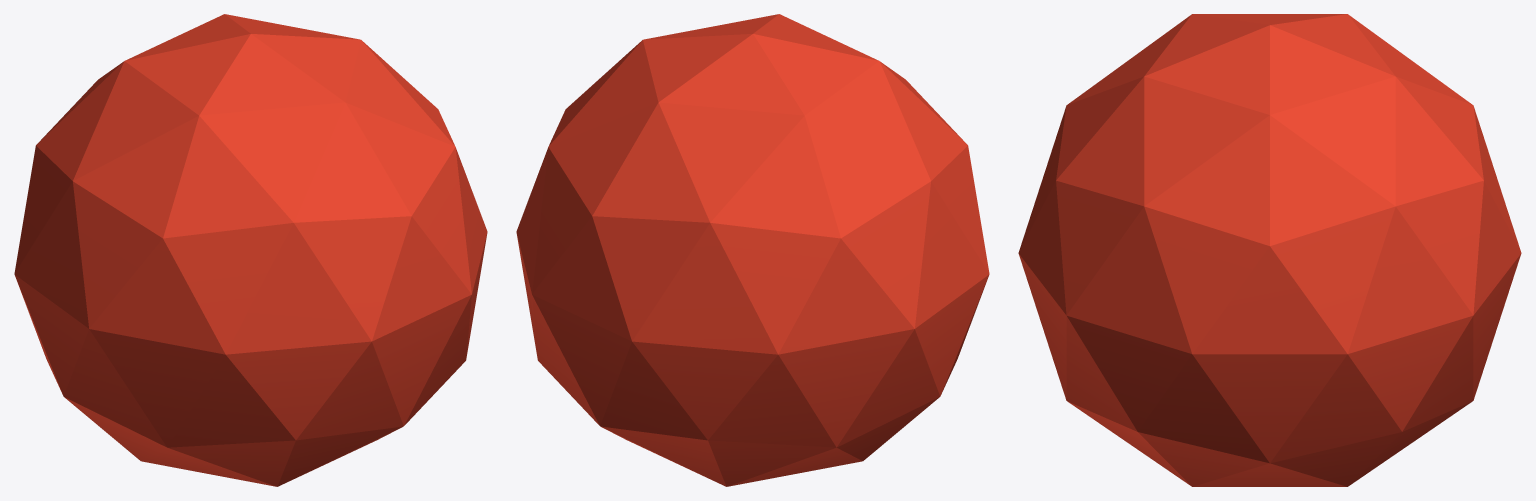
Rendered from tee_marker_ball_red.glb.
The picture shows the model from 3 angles, left to right: view 1: azimuth 30°, elevation 25°; view 2: azimuth 150°, elevation 25°; view 3: azimuth 270°, elevation 25°; orthographic projection. The views are drawn at different scales.
Visible parts, largest first — view 1: Body; view 2: Body; view 3: Body.
Boxes of the visible parts, x1,y1,x2,y2 form: Body: [14, 14, 487, 486]; Body: [516, 14, 989, 486]; Body: [1018, 14, 1521, 486].
Bounding box in the file's own units: 0.5516 × 0.53 × 0.58.
1 material, 1 textured.
